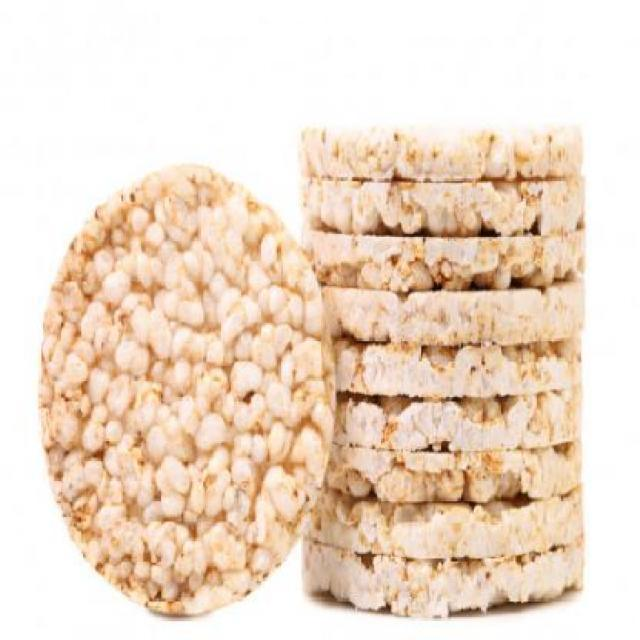Gallette di riso packaged: (32, 164, 338, 622), (286, 102, 596, 186)
